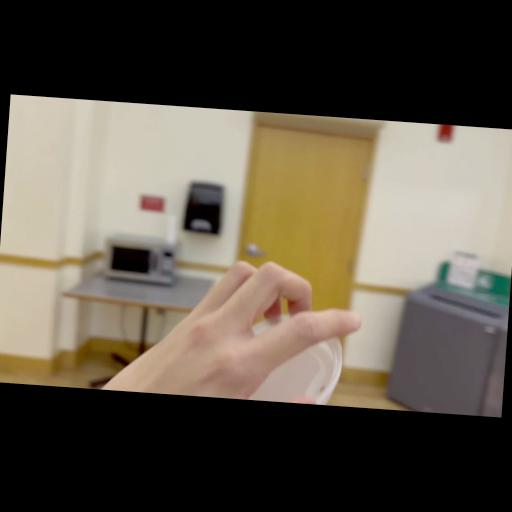lp_cup_lids: (217, 306, 349, 406)
